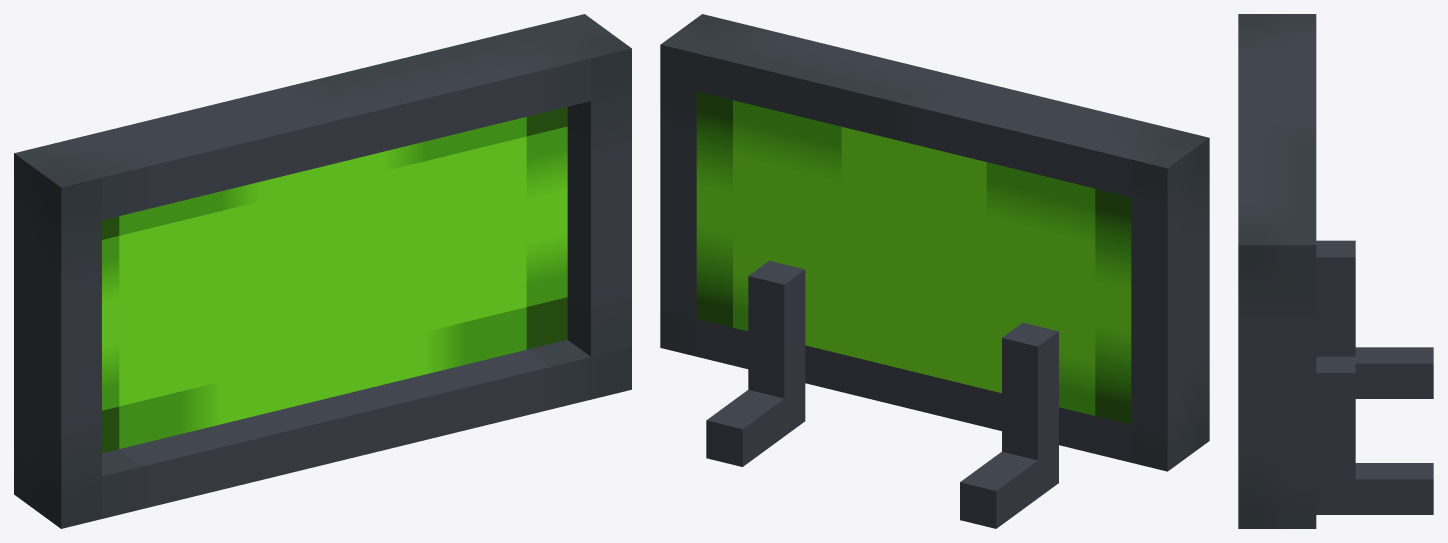
Rendered from Advertising-1.fbx.
The picture shows the model from 3 angles, left to right: view 1: azimuth 30°, elevation 25°; view 2: azimuth 150°, elevation 25°; view 3: azimuth 270°, elevation 25°; orthographic projection. The views are drawn at different scales.
Visible parts, largest first — view 1: Advertising_1; view 2: Advertising_1; view 3: Advertising_1.
Boxes of the visible parts, left/top/right/bottom form: Advertising_1: left=14, top=14, right=631, bottom=528; Advertising_1: left=660, top=14, right=1209, bottom=528; Advertising_1: left=1238, top=14, right=1433, bottom=528.
Size of the model in its own units: 140 by 90 by 50.
Materials: 2 (2 with a texture image).
